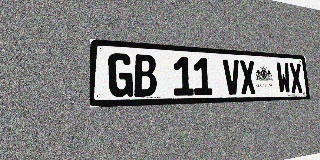1: (173, 56, 194, 96), (193, 57, 213, 95)
B: (133, 54, 157, 97)
G: (108, 53, 133, 97)
V: (223, 59, 241, 95)
W: (276, 62, 291, 94)
X: (239, 60, 256, 94), (289, 63, 303, 93)
